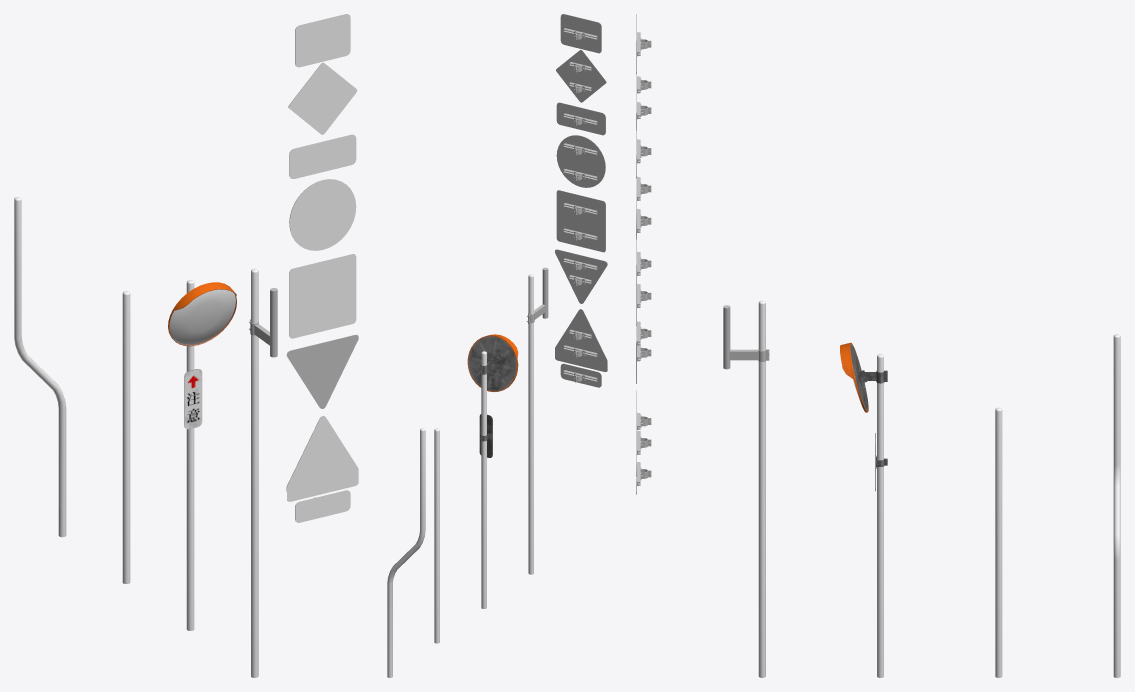
File: TrafficSign.fbx
3 renders of one model, left to right at view 1: azimuth 30°, elevation 25°; view 2: azimuth 150°, elevation 25°; view 3: azimuth 270°, elevation 25°, orthographic. The views are drawn at different scales.
Visible parts, largest first — view 1: TrafficSign_Square, TrafficSign_Circle, TrafficSign_Triangle, TrafficSign_Mirror, TrafficSignPole_3.5m, TrafficSignPole_3.0m_type2, TrafficSign_CautionTriangle, TrafficSign_Diamond, TrafficSignPole_2.5m, TrafficSign_DetailLarge, TrafficSignPole_3.0m, TrafficSign_OneWayRectangle (+3 smaller); view 2: TrafficSign_Square, TrafficSign_Mirror, TrafficSign_Circle, TrafficSign_Triangle, TrafficSignPole_3.5m, TrafficSignPole_3.0m_type2, TrafficSign_CautionTriangle, TrafficSignPole_3.0m, TrafficSign_Diamond, TrafficSign_DetailLarge, TrafficSignPole_2.5m, TrafficSign_OneWayRectangle (+3 smaller); view 3: TrafficSignPole_3.5m, TrafficSignPole_3.0m_type2, TrafficSignPole_2.5m, TrafficSignPole_3.0m, TrafficSign_Mirror, TrafficSign_Arm.
Part boxes in pixels (left/top/right/bottom): TrafficSign_Square: left=289, top=254, right=356, bottom=338; TrafficSign_Circle: left=289, top=179, right=356, bottom=250; TrafficSign_Triangle: left=286, top=416, right=358, bottom=501; TrafficSign_Mirror: left=168, top=282, right=236, bottom=346; TrafficSignPole_3.5m: left=251, top=268, right=258, bottom=677; TrafficSignPole_3.0m_type2: left=14, top=197, right=66, bottom=537; TrafficSign_CautionTriangle: left=286, top=334, right=358, bottom=408; TrafficSign_Diamond: left=288, top=62, right=357, bottom=134; TrafficSignPole_2.5m: left=122, top=291, right=130, bottom=583; TrafficSign_DetailLarge: left=295, top=14, right=350, bottom=67; TrafficSignPole_3.0m: left=186, top=280, right=194, bottom=630; TrafficSign_OneWayRectangle: left=289, top=134, right=356, bottom=178; TrafficSign_Square: left=556, top=190, right=605, bottom=252; TrafficSign_Mirror: left=467, top=334, right=518, bottom=391; TrafficSign_Circle: left=556, top=135, right=605, bottom=187; TrafficSign_Triangle: left=555, top=309, right=607, bottom=371; TrafficSignPole_3.5m: left=528, top=274, right=533, bottom=574; TrafficSignPole_3.0m_type2: left=387, top=428, right=425, bottom=677; TrafficSign_CautionTriangle: left=555, top=249, right=607, bottom=303; TrafficSignPole_3.0m: left=481, top=351, right=486, bottom=608; TrafficSign_Diamond: left=556, top=50, right=606, bottom=102; TrafficSign_DetailLarge: left=560, top=14, right=601, bottom=53; TrafficSignPole_2.5m: left=434, top=428, right=439, bottom=643; TrafficSign_OneWayRectangle: left=556, top=102, right=605, bottom=135; TrafficSignPole_3.5m: left=758, top=300, right=765, bottom=677; TrafficSignPole_3.0m_type2: left=1113, top=334, right=1120, bottom=677; TrafficSignPole_2.5m: left=995, top=407, right=1002, bottom=677; TrafficSignPole_3.0m: left=877, top=354, right=883, bottom=677; TrafficSign_Mirror: left=840, top=342, right=887, bottom=412; TrafficSign_Arm: left=723, top=305, right=769, bottom=369.
Size of the model in its own units: 0.7527 by 6.08 by 4.1.
